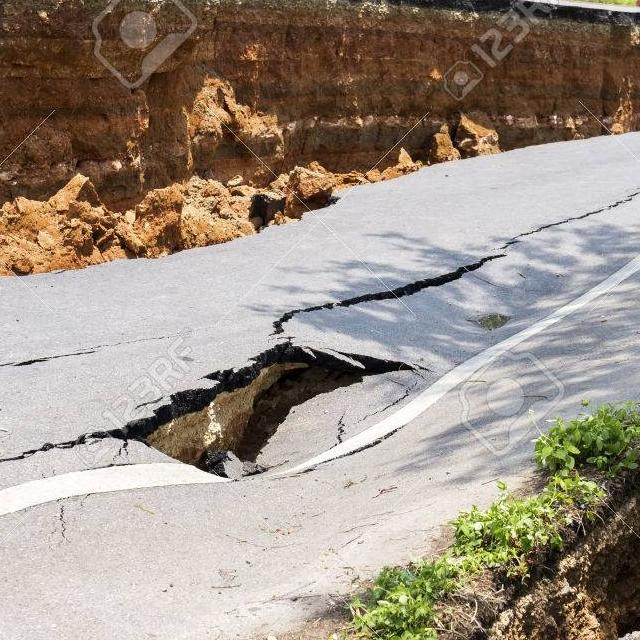lubang_kecil: (90, 337, 422, 483)
retak_memanjang: (296, 175, 640, 321), (0, 335, 114, 427), (0, 405, 90, 513)
